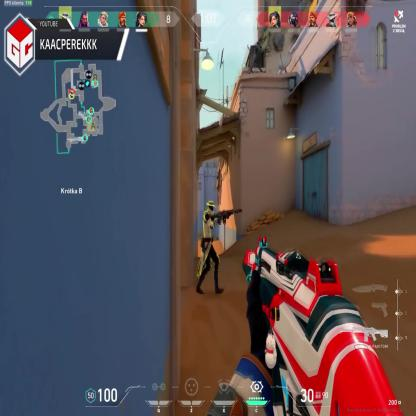enemy: (197, 198, 224, 294)
enemy_head: (207, 200, 215, 215)
